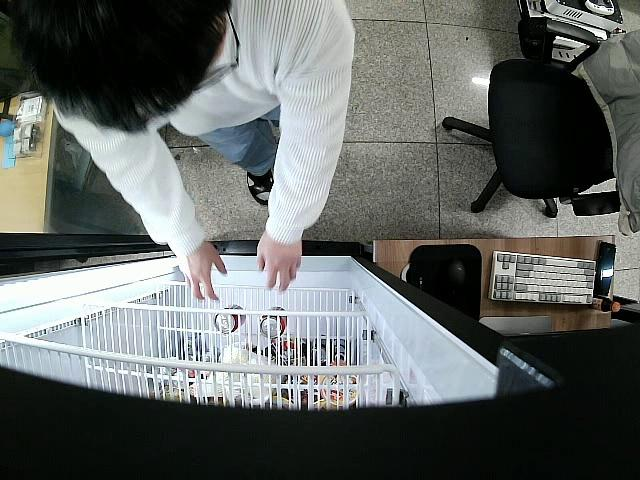00_hand: (176, 245, 226, 301), (257, 239, 302, 292)
